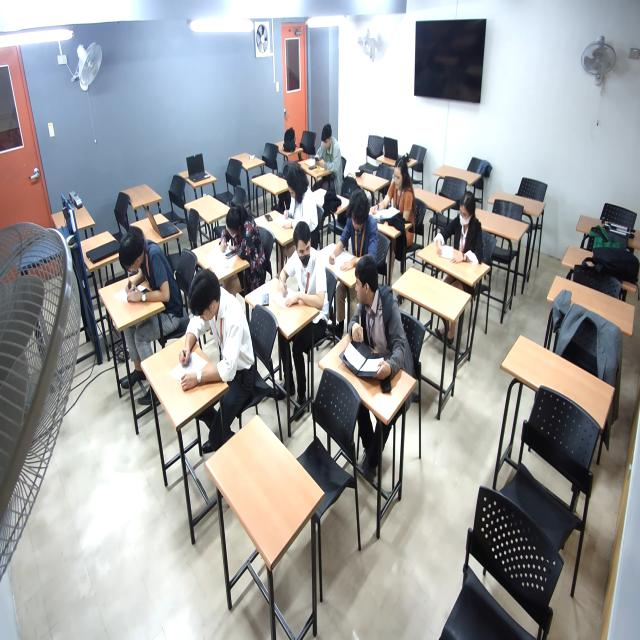read: (177, 271, 257, 390), (324, 192, 382, 282), (274, 226, 325, 321), (117, 223, 173, 307), (431, 198, 486, 278), (367, 160, 421, 235), (214, 209, 260, 263), (273, 173, 311, 237), (313, 129, 342, 176)
